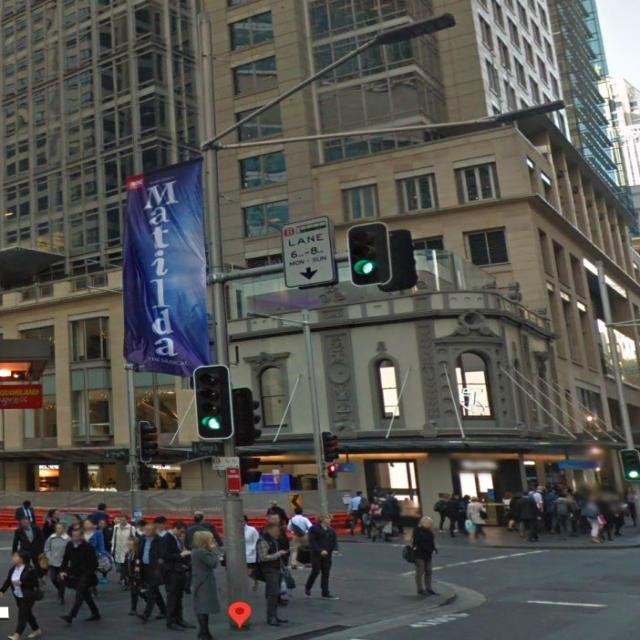steel-pole: (197, 16, 252, 632), (595, 258, 640, 525), (298, 308, 329, 517), (125, 363, 142, 528)
streetlight: (203, 11, 458, 151), (206, 99, 571, 152), (245, 312, 309, 328)
traffic-light: (193, 365, 234, 440), (345, 221, 392, 286), (380, 229, 420, 294), (232, 387, 266, 448), (136, 420, 160, 464), (238, 455, 264, 488), (617, 448, 640, 479), (321, 432, 341, 462), (138, 465, 158, 491), (326, 464, 340, 480)
